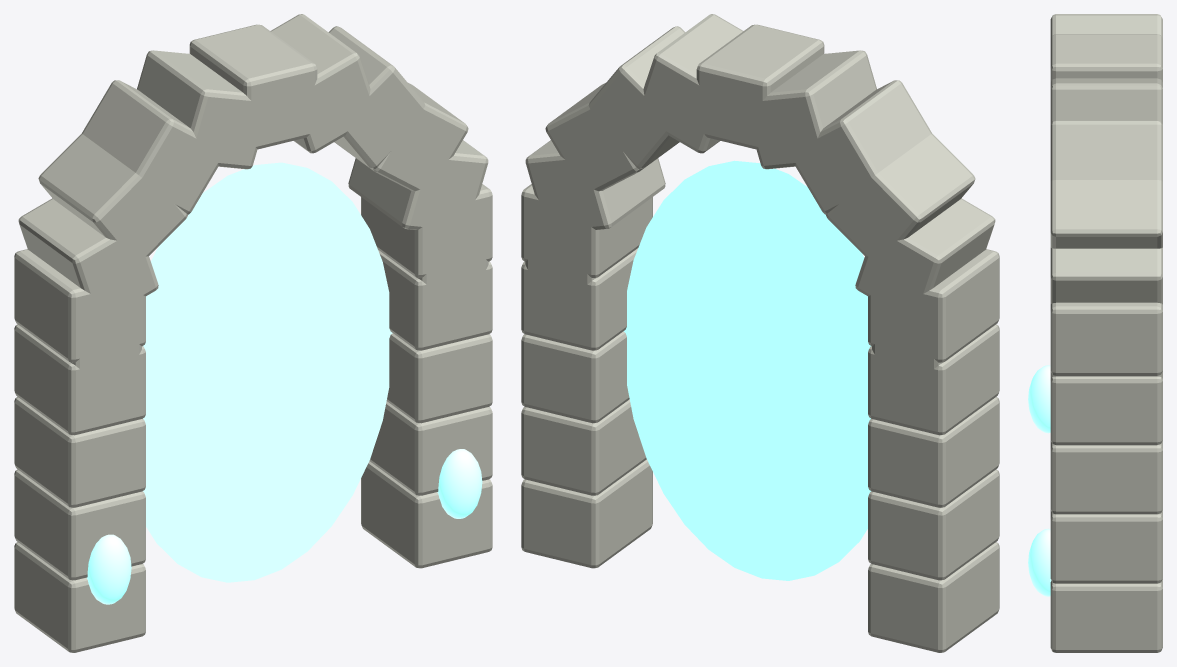
The model's file is Portal.fbx.
3 views of the same model, side by side, from view 1: azimuth 30°, elevation 25°; view 2: azimuth 150°, elevation 25°; view 3: azimuth 270°, elevation 25° (orthographic). The views are drawn at different scales.
Parts seen in each view (by area): view 1: Portal; view 2: Portal; view 3: Portal.
Part boxes in pixels (x1,y1,x2,y2): Portal: (14,14,492,652); Portal: (521,14,999,652); Portal: (1028,14,1162,652).
Size of the model in its own units: 2.08 by 2.49 by 0.6.
